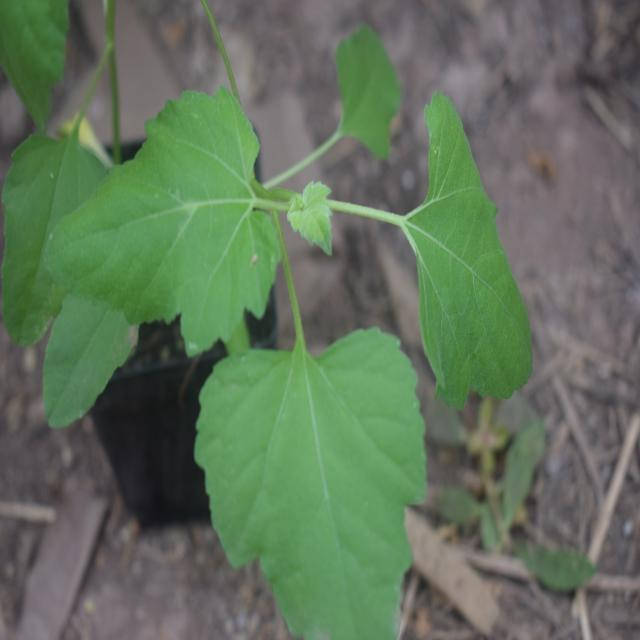cocklebur: (39, 89, 552, 606)
